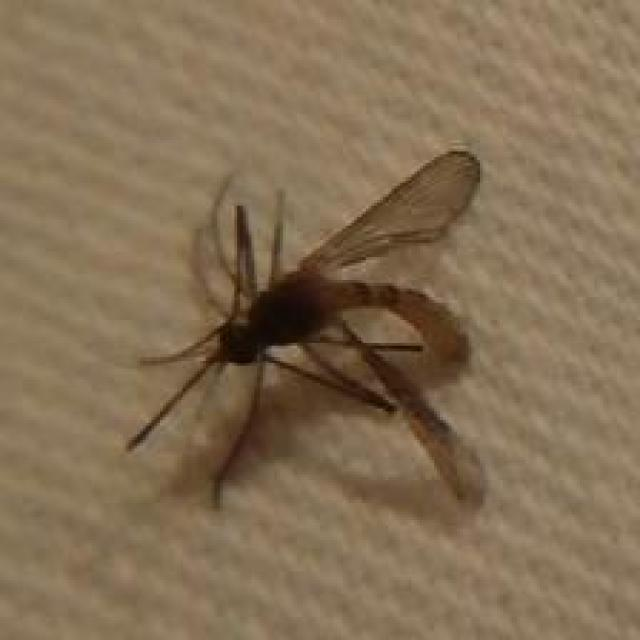Culex: (123, 147, 488, 513)
